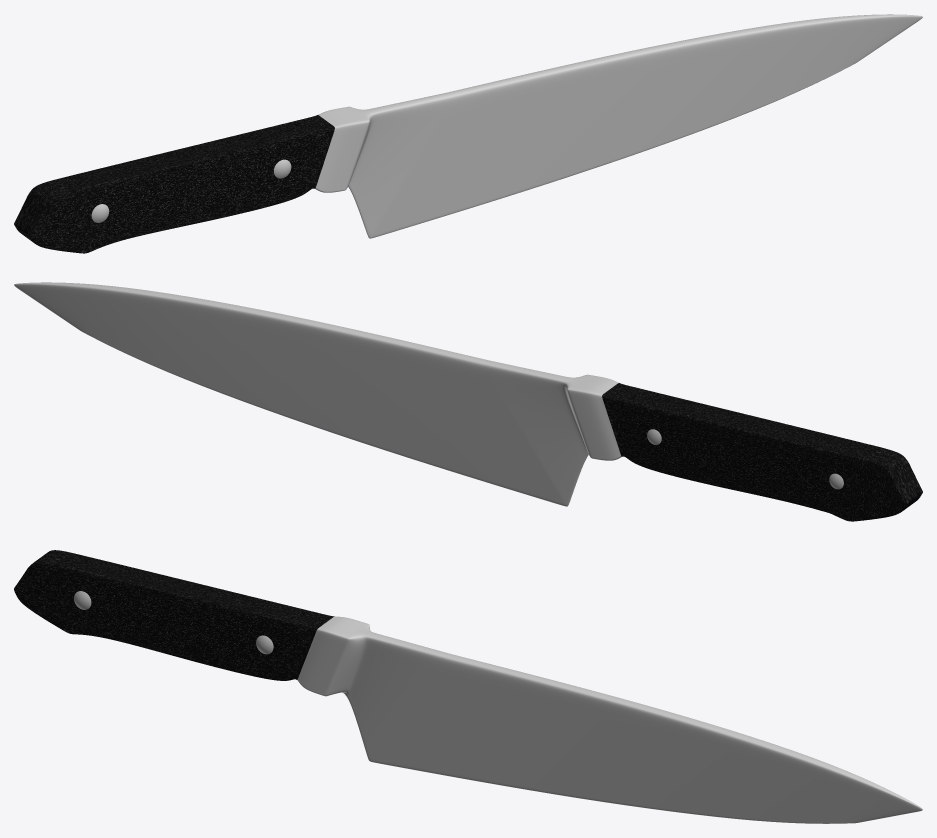
Rendered from gear_knife.gltf.
The picture shows the model from 3 angles, top to bottom: view 1: azimuth 30°, elevation 25°; view 2: azimuth 150°, elevation 25°; view 3: azimuth 330°, elevation 25°; orthographic projection.
Visible parts, largest first — view 1: Object_6, Object_7; view 2: Object_6, Object_7; view 3: Object_6, Object_7.
Part boxes in pixels (<box>): Object_6: <box>315,14,922,238</box>; Object_7: <box>14,115,334,253</box>; Object_6: <box>14,282,621,506</box>; Object_7: <box>602,383,922,521</box>; Object_6: <box>297,616,922,823</box>; Object_7: <box>14,550,334,680</box>.
Bounding box in the file's own units: 0.468 × 0.0642 × 0.0188.
Materials: 2 (2 with a texture image).
